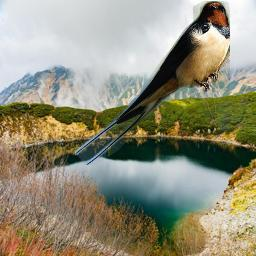Swallow: (75, 1, 230, 165)
